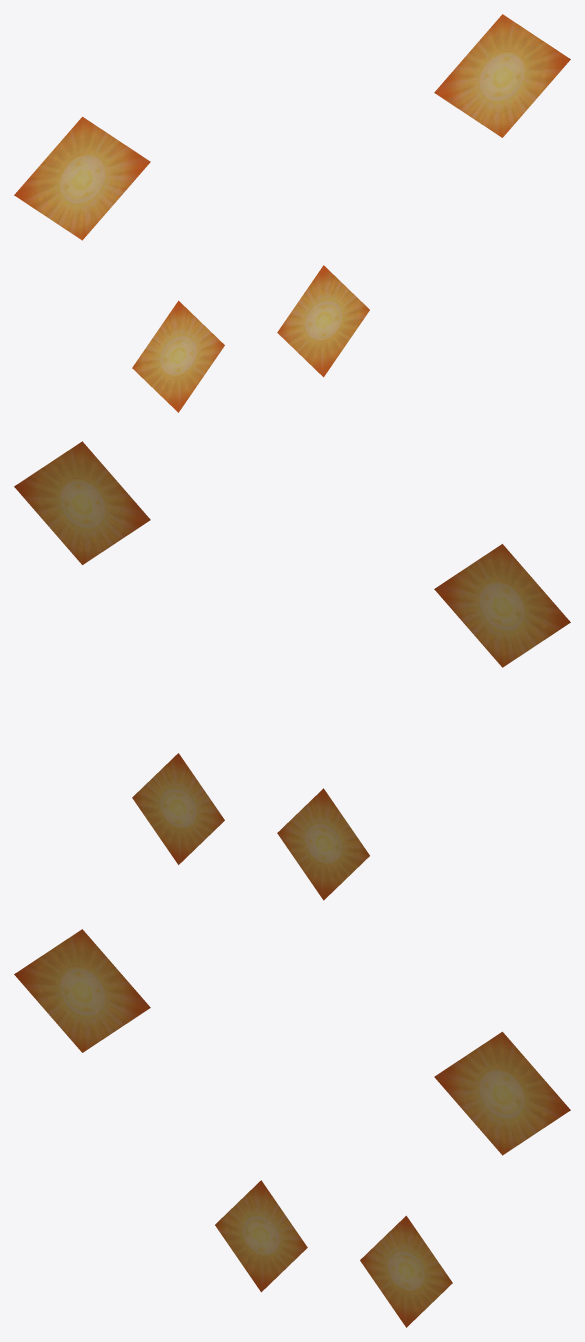
Rendered from cargo_freighter_engine_on_l3.fbx.
3 renders of one model, top to bottom at view 1: azimuth 30°, elevation 25°; view 2: azimuth 150°, elevation 25°; view 3: azimuth 330°, elevation 25°, orthographic.
Parts seen in each view (by area): view 1: mesh_node; view 2: mesh_node; view 3: mesh_node.
Boxes of the visible parts, <box> form: mesh_node: <box>14,14,570,412</box>; mesh_node: <box>14,441,570,900</box>; mesh_node: <box>14,929,570,1327</box>.
Bounding box in the file's own units: 23.6 × 14.59 × 3.04.
